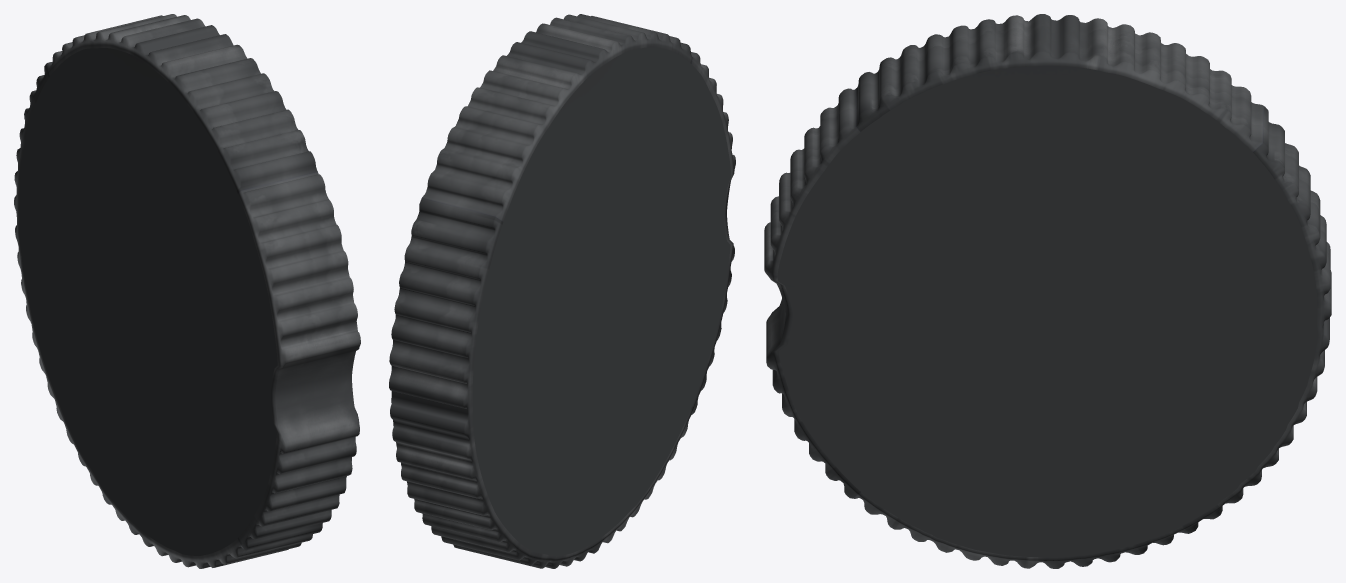
The model's file is Mod_Wheel_01.dae.
3 renders of one model, left to right at view 1: azimuth 30°, elevation 25°; view 2: azimuth 150°, elevation 25°; view 3: azimuth 270°, elevation 25°, orthographic. The views are drawn at different scales.
Visible parts, largest first — view 1: Mod_Wheel_01_LOD0; view 2: Mod_Wheel_01_LOD0; view 3: Mod_Wheel_01_LOD0.
Boxes of the visible parts, x1=… form: Mod_Wheel_01_LOD0: x1=14, y1=14, x2=360, y2=568; Mod_Wheel_01_LOD0: x1=389, y1=14, x2=735, y2=568; Mod_Wheel_01_LOD0: x1=764, y1=14, x2=1331, y2=568.
Size of the model in its own units: 11.47 by 65.45 by 65.03.
